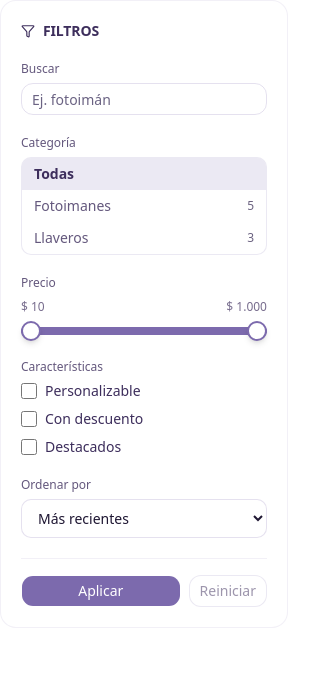
Test: ProductsFilters — estado activo reflejado desde searchParams › la sub-categoría se muestra solo al activar su categoría padre
Expected: the radio button labelled "Corazón" is not shown
Click the radio button labelled "Fotoimanes 5" at (144,206), box [22,190,266,222]
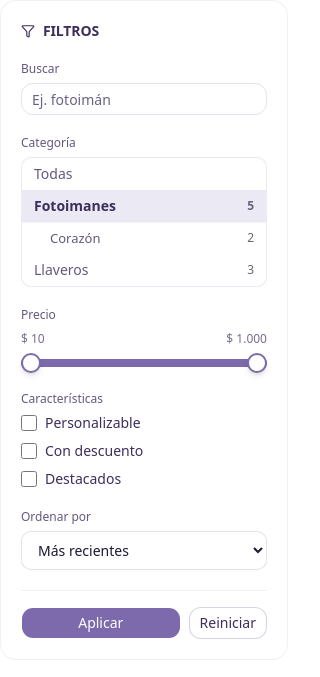
Expected: the radio button labelled "Corazón 2" is shown, [22,223,266,254]
